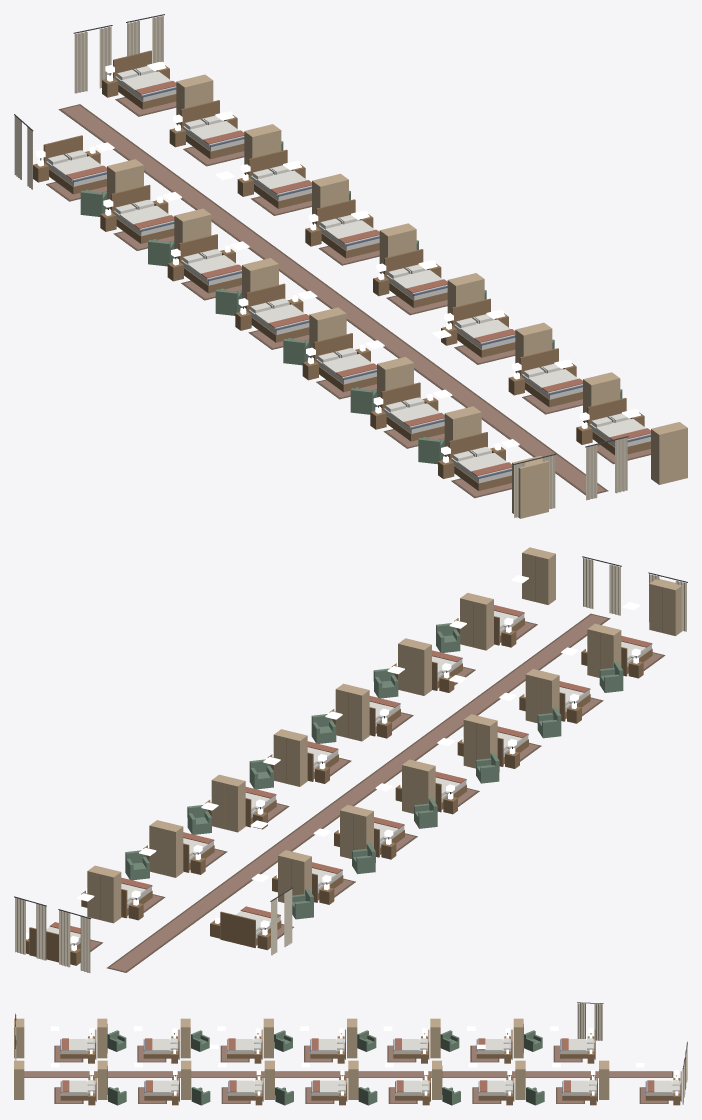
File: fine-s1.glb
3 views of the same model, one above another, from view 1: azimuth 30°, elevation 25°; view 2: azimuth 150°, elevation 25°; view 3: azimuth 270°, elevation 25° (orthographic). The views are drawn at different scales.
Parts seen in each view (by area): view 1: soft-s1, dresser.014, dresser.006, bed-frame.001, bed-frame.008, bed-frame.010, bed-frame.005, bed-frame.011, bed-frame.003, bed-frame.012, bed-frame.013, bed-frame.007 (+19 smaller); view 2: soft-s1, dresser.007, dresser.009, dresser.008, dresser.010, dresser.011, dresser.012, dresser.013, dresser.014, dresser.006, dresser.003, dresser.004 (+12 smaller); view 3: soft-s1, dresser.001, dresser.000, dresser.002, dresser.003, dresser.004, dresser.005, dresser.008, dresser.010, dresser.007, dresser.011, dresser.012 (+31 smaller).
Part boxes in pixels (x1,y1,x2,y2): soft-s1: (14, 14, 650, 517); dresser.014: (651, 422, 687, 484); dresser.006: (512, 455, 548, 518); bed-frame.001: (111, 184, 174, 243); bed-frame.008: (180, 100, 244, 159); bed-frame.010: (316, 199, 379, 258); bed-frame.005: (381, 382, 444, 441); bed-frame.011: (384, 249, 447, 307); bed-frame.003: (246, 283, 309, 342); bed-frame.012: (452, 298, 515, 357); bed-frame.013: (519, 348, 582, 407); bed-frame.007: (113, 50, 176, 109); soft-s1: (14, 556, 687, 972); dresser.007: (87, 865, 121, 923); dresser.009: (211, 774, 245, 832); dresser.008: (149, 820, 183, 877); dresser.010: (273, 729, 307, 786); dresser.011: (335, 683, 369, 741); dresser.012: (398, 638, 431, 695); dresser.013: (460, 592, 493, 650); dresser.014: (522, 547, 555, 604); dresser.006: (649, 579, 682, 635); dresser.003: (463, 714, 497, 768); dresser.004: (525, 669, 559, 723); soft-s1: (15, 1002, 687, 1104); dresser.001: (430, 1018, 440, 1058); dresser.000: (513, 1018, 523, 1058); dresser.002: (347, 1018, 357, 1058); dresser.003: (263, 1018, 273, 1058); dresser.004: (180, 1018, 190, 1058); dresser.005: (97, 1018, 107, 1058); dresser.008: (515, 1060, 525, 1099); dresser.010: (348, 1060, 358, 1099); dresser.007: (599, 1060, 609, 1099); dresser.011: (264, 1060, 274, 1099); dresser.012: (181, 1060, 191, 1099).
Bounding box in the file's own units: 9.11 × 2.46 × 39.5.
